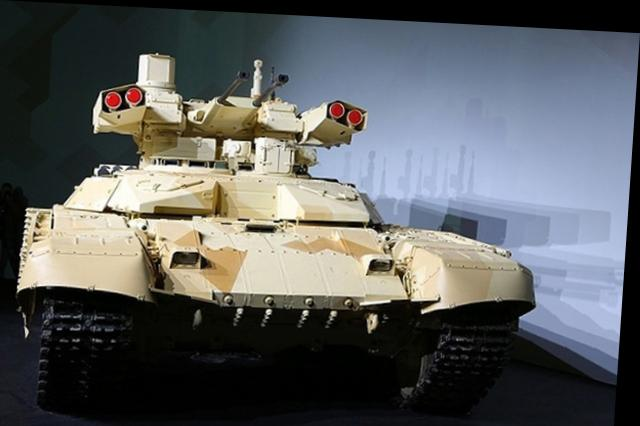tank: (4, 153, 526, 405)
